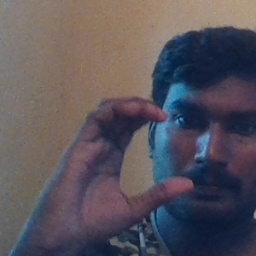C: (79, 87, 197, 224)
